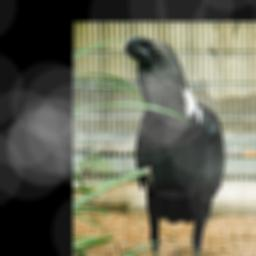Crow: (119, 35, 225, 256)
